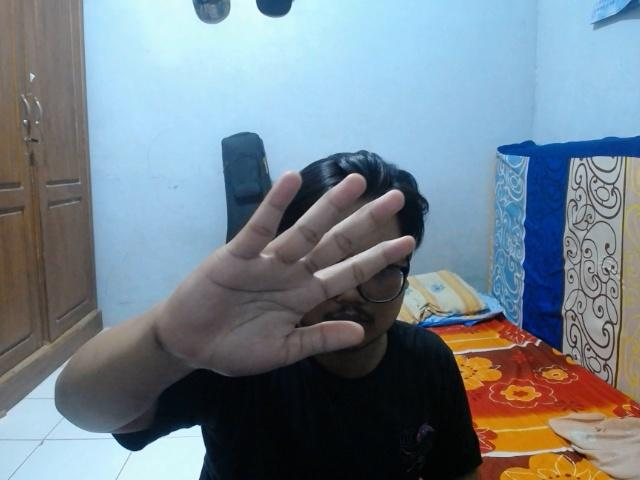Release: (150, 163, 422, 384)
